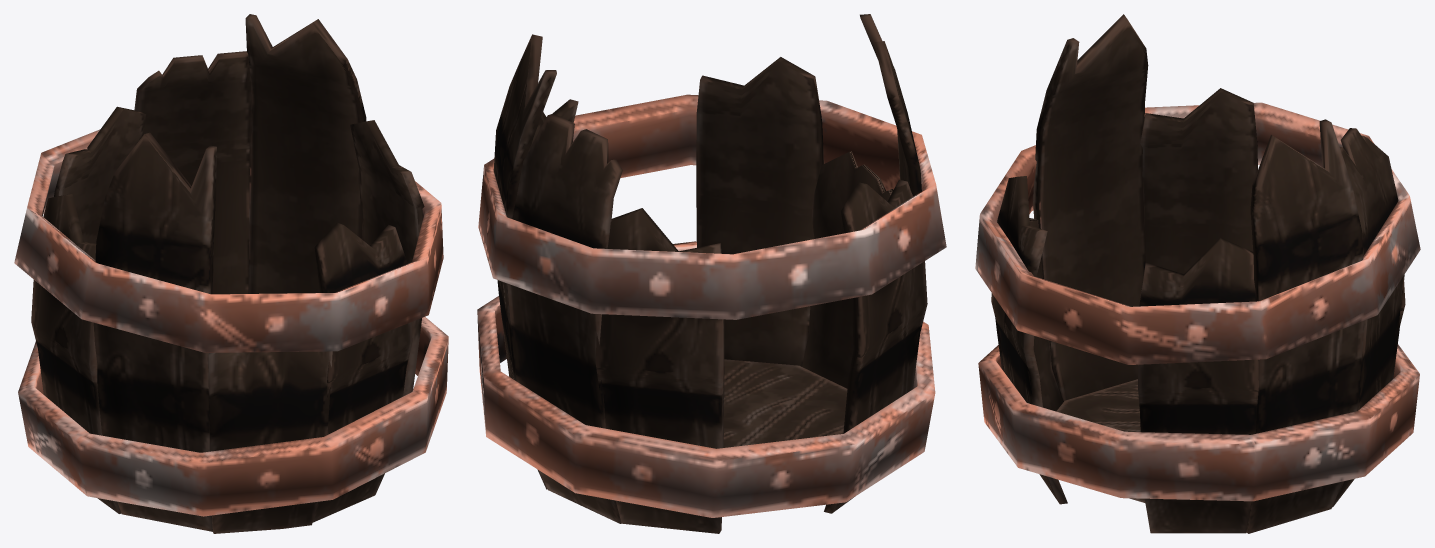
The model's file is P_Barrel_2.gltf.
The picture shows the model from 3 angles, left to right: view 1: azimuth 30°, elevation 25°; view 2: azimuth 150°, elevation 25°; view 3: azimuth 270°, elevation 25°; orthographic projection. The views are drawn at different scales.
Visible parts, largest first — view 1: P_Barrel_2; view 2: P_Barrel_2; view 3: P_Barrel_2.
Part boxes in pixels (left/top/right/bottom): P_Barrel_2: left=14, top=14, right=448, bottom=533; P_Barrel_2: left=477, top=14, right=946, bottom=533; P_Barrel_2: left=975, top=14, right=1420, bottom=533.
Size of the model in its own units: 0.953 by 0.958 by 0.9841.
Materials: 1 (1 with a texture image).
